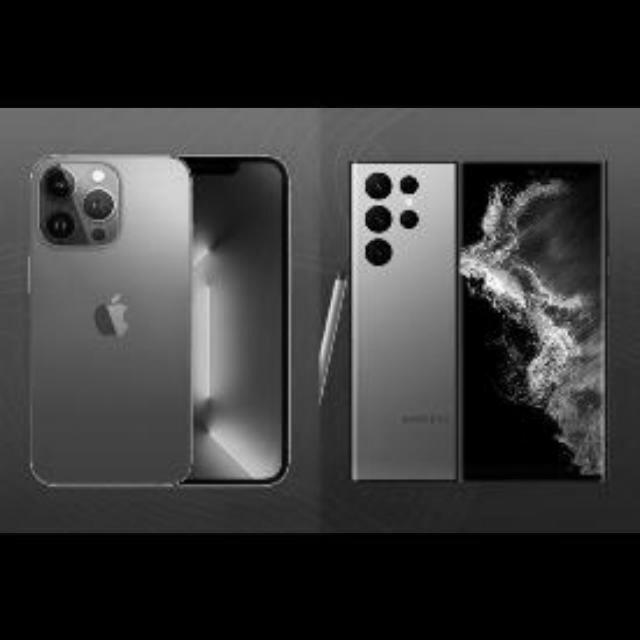fake: (15, 140, 269, 492), (188, 156, 286, 486)
